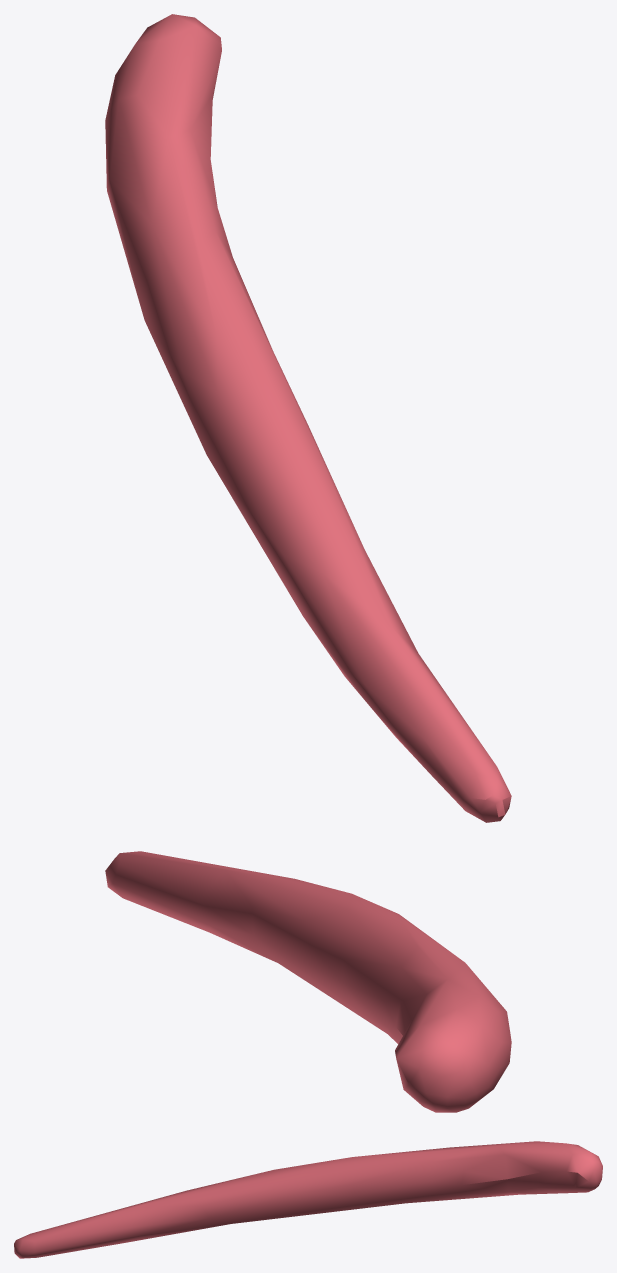
Rendered from fma8665_fj6108.glb.
3 renders of one model, top to bottom at view 1: azimuth 30°, elevation 25°; view 2: azimuth 210°, elevation 25°; view 3: azimuth 270°, elevation 25°, orthographic. The views are drawn at different scales.
Parts seen in each view (by area): view 1: FMA8665_FJ6108; view 2: FMA8665_FJ6108; view 3: FMA8665_FJ6108.
Part boxes in pixels (x1,y1,x2,y2): FMA8665_FJ6108: [105, 14, 511, 822]; FMA8665_FJ6108: [105, 851, 511, 1112]; FMA8665_FJ6108: [14, 1141, 602, 1258].
Bounding box in the file's own units: 0.0141 × 0.0142 × 0.046.
